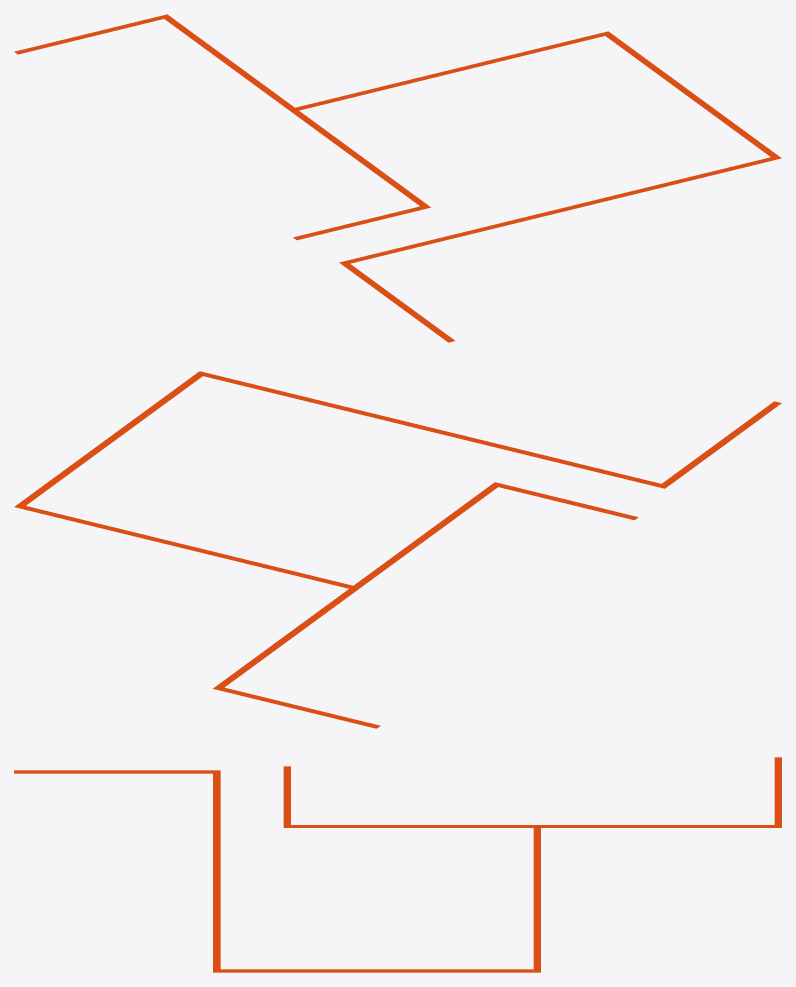
3 renders of one model, top to bottom at view 1: azimuth 30°, elevation 25°; view 2: azimuth 150°, elevation 25°; view 3: azimuth 270°, elevation 25°, orthographic. The views are drawn at different scales.
Parts seen in each view (by area): view 1: Line; view 2: Line; view 3: Line.
Part boxes in pixels (left/top/right/bottom): Line: left=14, top=14, right=781, bottom=342; Line: left=14, top=371, right=781, bottom=728; Line: left=14, top=757, right=781, bottom=972.
Size of the model in its own units: 771 by 7.12e-14 by 1163.
